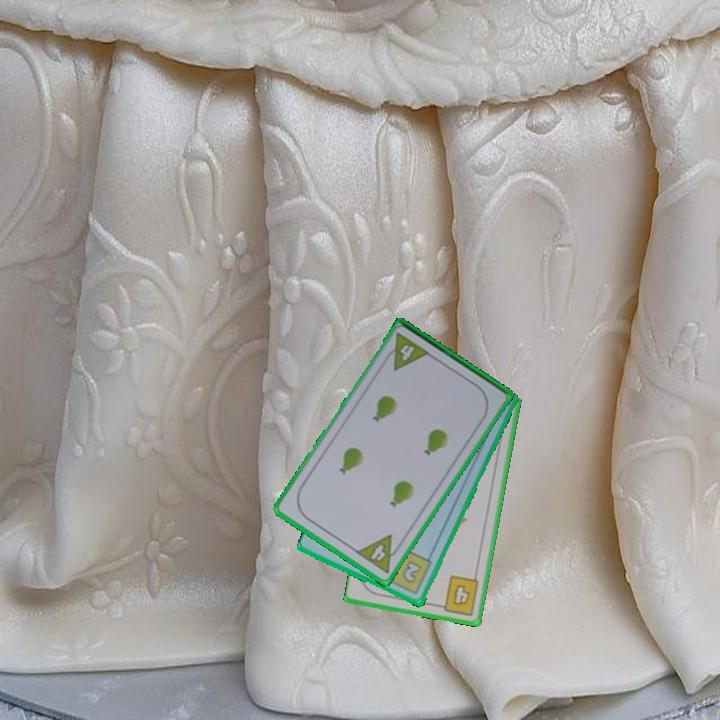2b: (382, 547, 435, 598)
4b: (434, 572, 482, 618)
4p: (352, 531, 406, 576), (380, 329, 433, 374)
